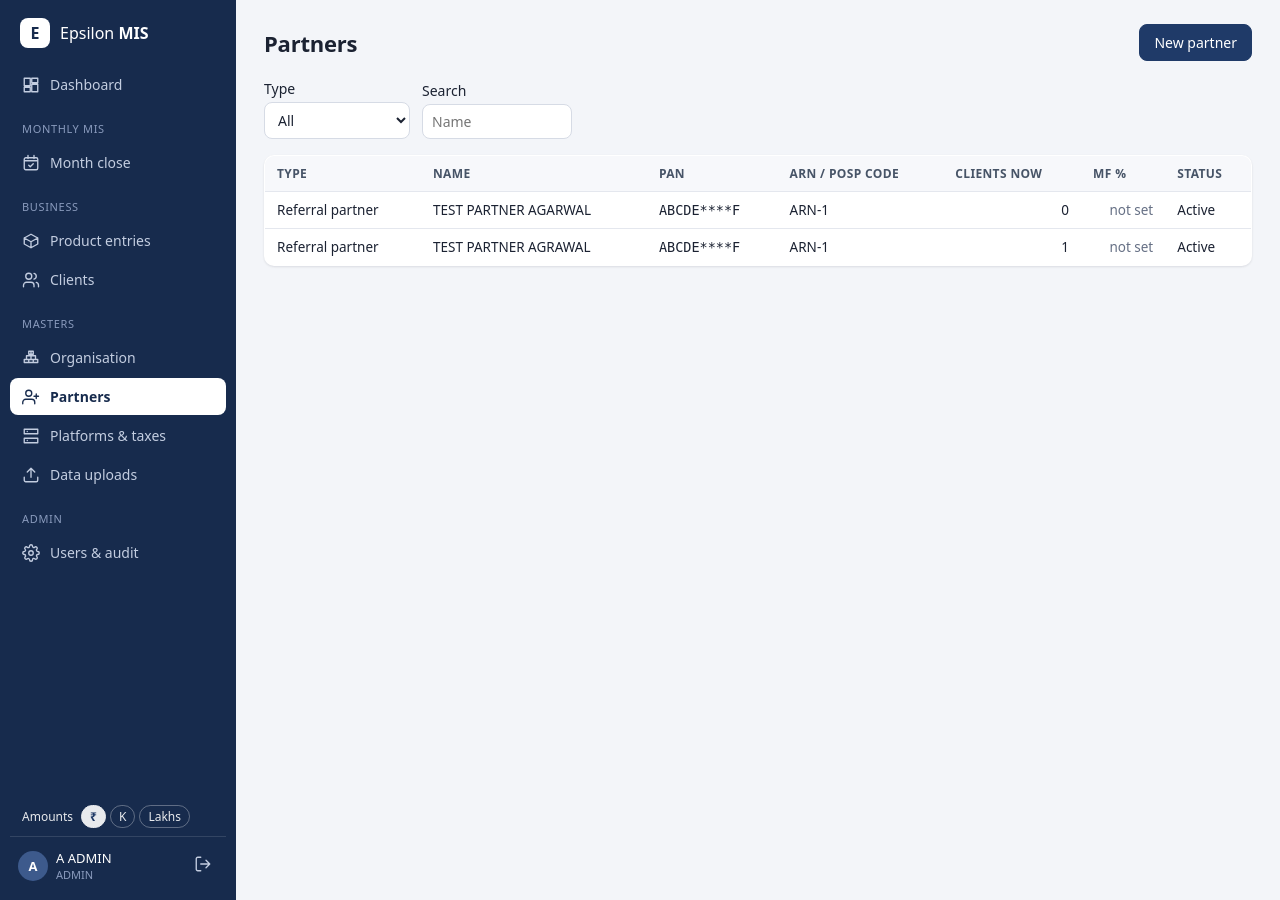
setup navigation › merges a duplicate partner into the right spelling
This screenshot has width=1280, height=900.
Step 1. Click the text "TEST PARTNER AGRAWAL" → (534, 247), box top-left (421, 228), bottom-right (647, 266)
(page scrolled)
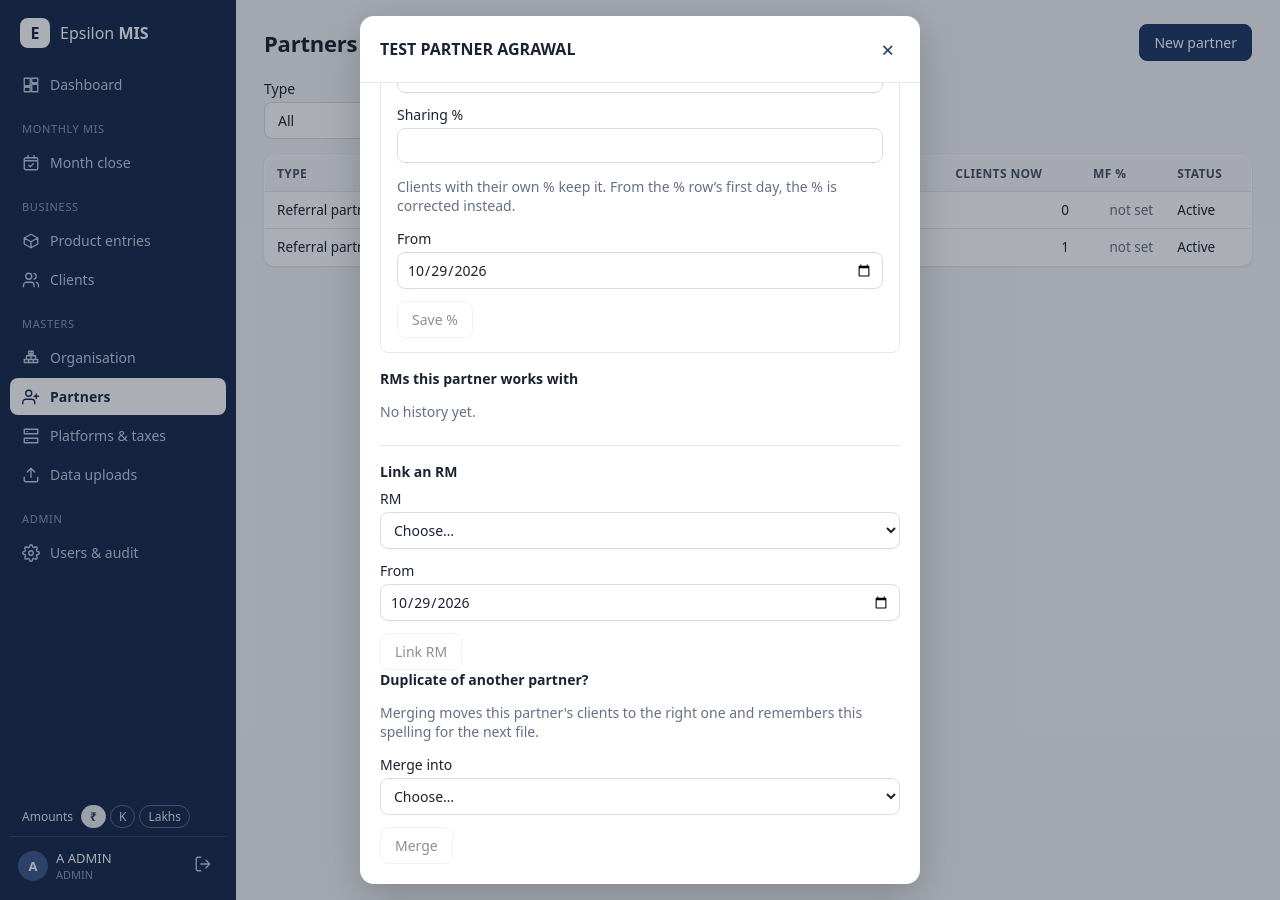
Step 2. Select "TEST PARTNER AGARWAL" in the dropdown labelled "Merge into" → (640, 796), box top-left (380, 778), bottom-right (900, 815)
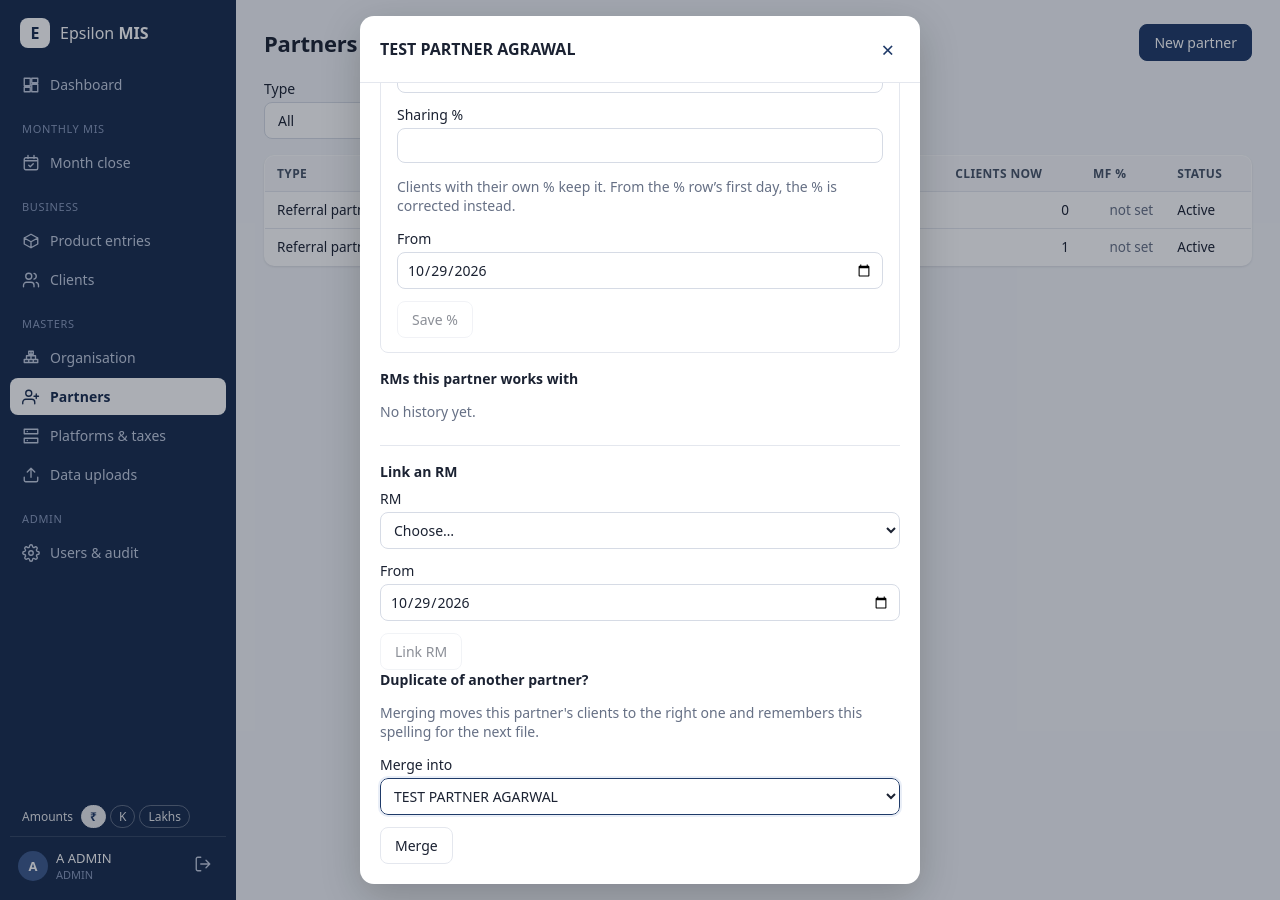
Step 3. Click the button "Merge" → (416, 846), box top-left (380, 827), bottom-right (453, 864)
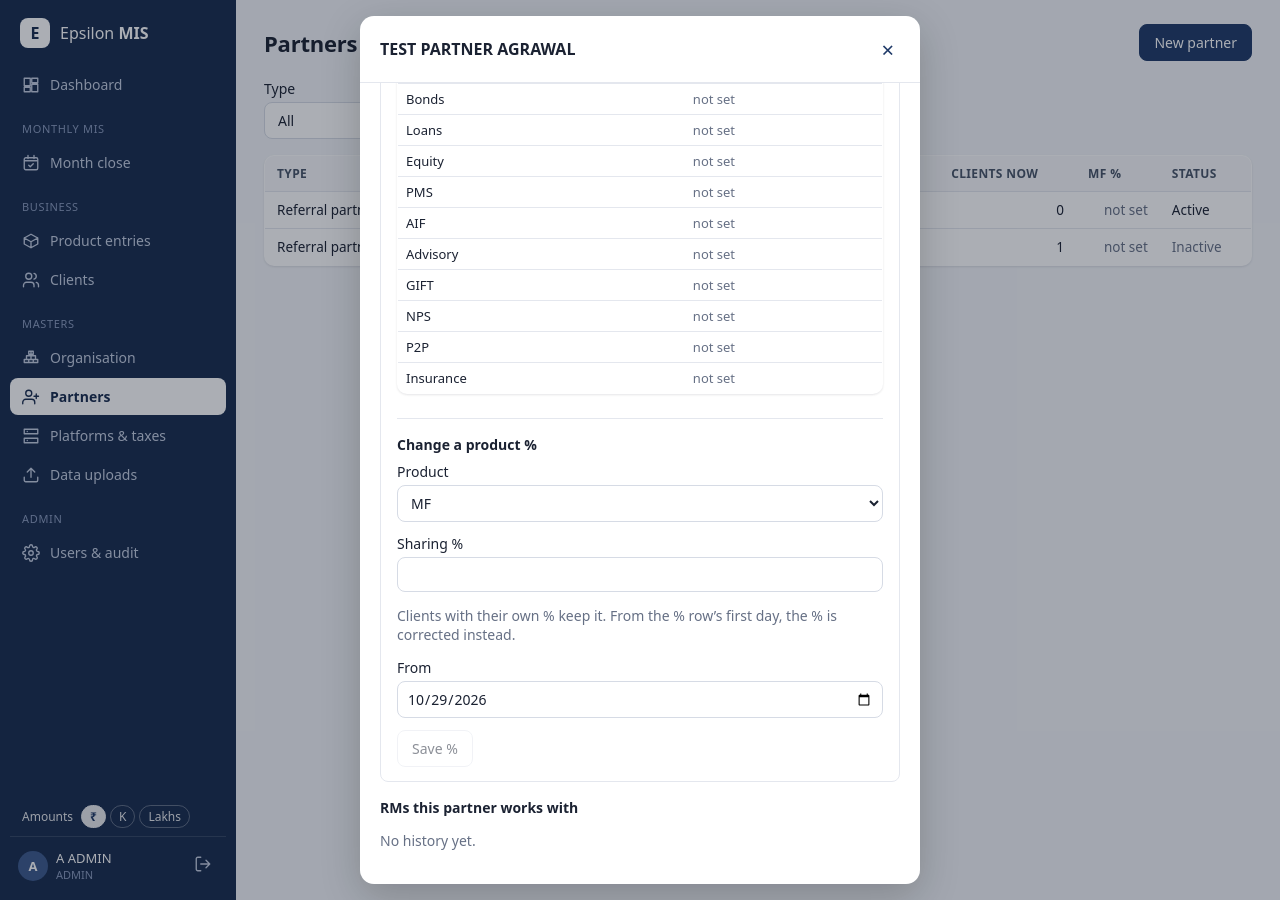
Check: the cell "Inactive" is shown, box top-left (1160, 228), bottom-right (1252, 266)
